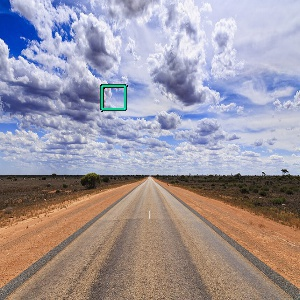square: (97, 83, 129, 112)
